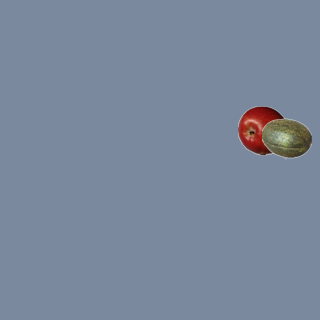Apple Braeburn: (237, 105, 287, 155)
Melon Piel de Sapo: (261, 113, 311, 163)
